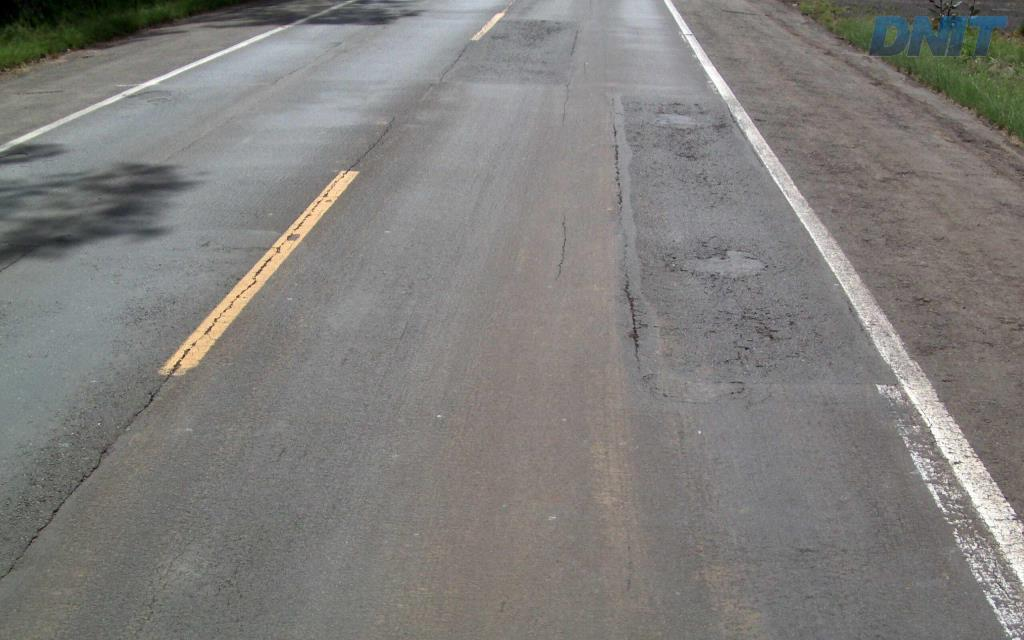crack: (623, 280, 648, 361), (740, 306, 791, 342)
